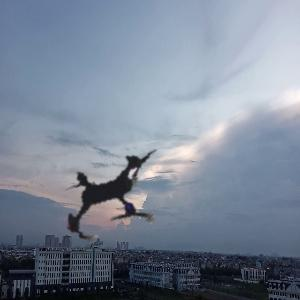drone: (25, 111, 202, 288)
